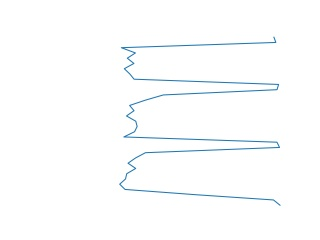majorRiverChannelBar: (117, 37, 288, 210)
